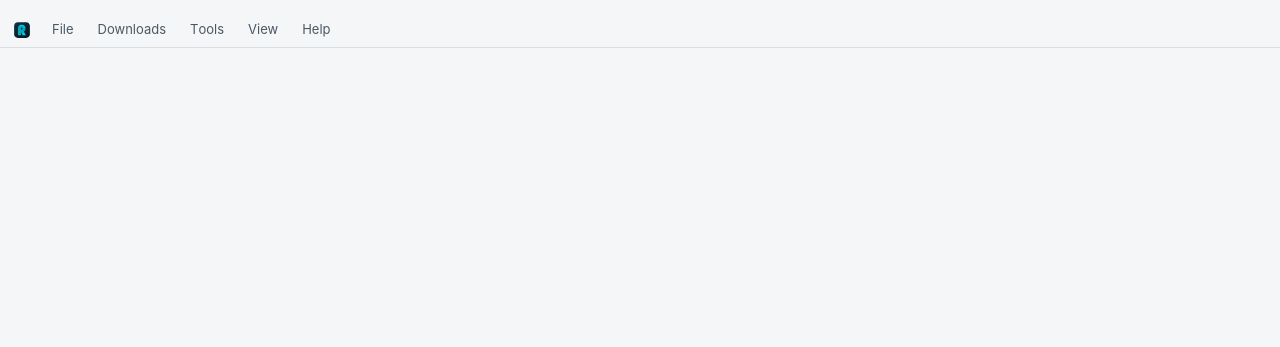
Test: TitleBarComponent › in a plain browser › switches menus on hover while one is open, but not before
This screenshot has width=1280, height=347.
Click the menu item with class "top-button" showing "F ile" at (63, 30), box [40,16,86,44]
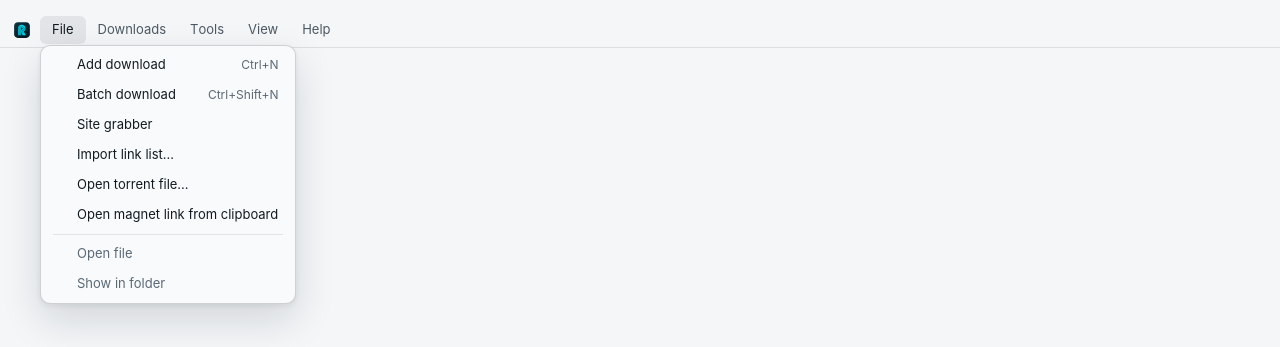
Hover over the element showing "T ools" at (207, 30), box [178,12,236,47]
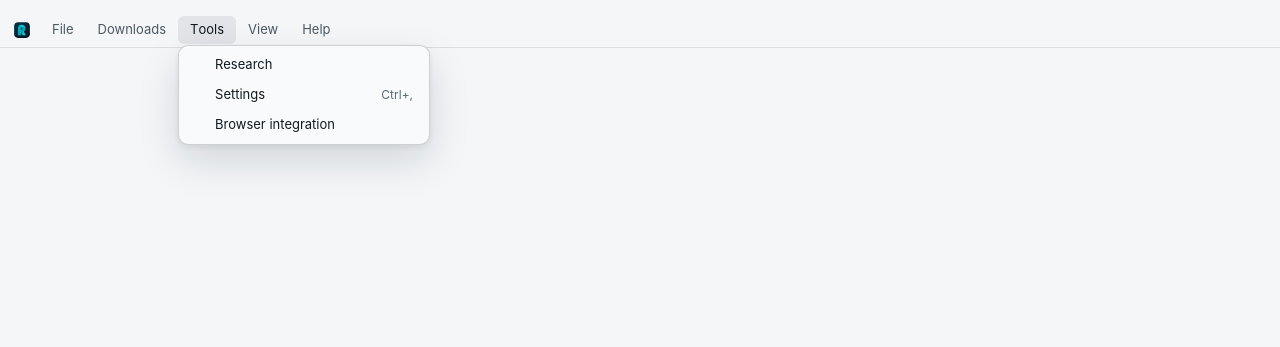
Expected: the menu item with class "top-button" is collapsed, [40,16,86,44]
